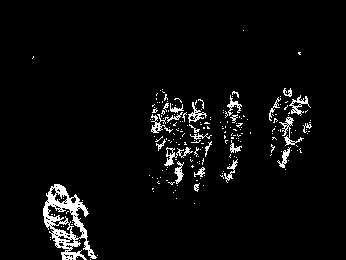person: (42, 181, 97, 260), (219, 89, 253, 184), (160, 96, 193, 184), (183, 96, 213, 192), (276, 93, 312, 171), (267, 85, 303, 159), (149, 89, 174, 170)
